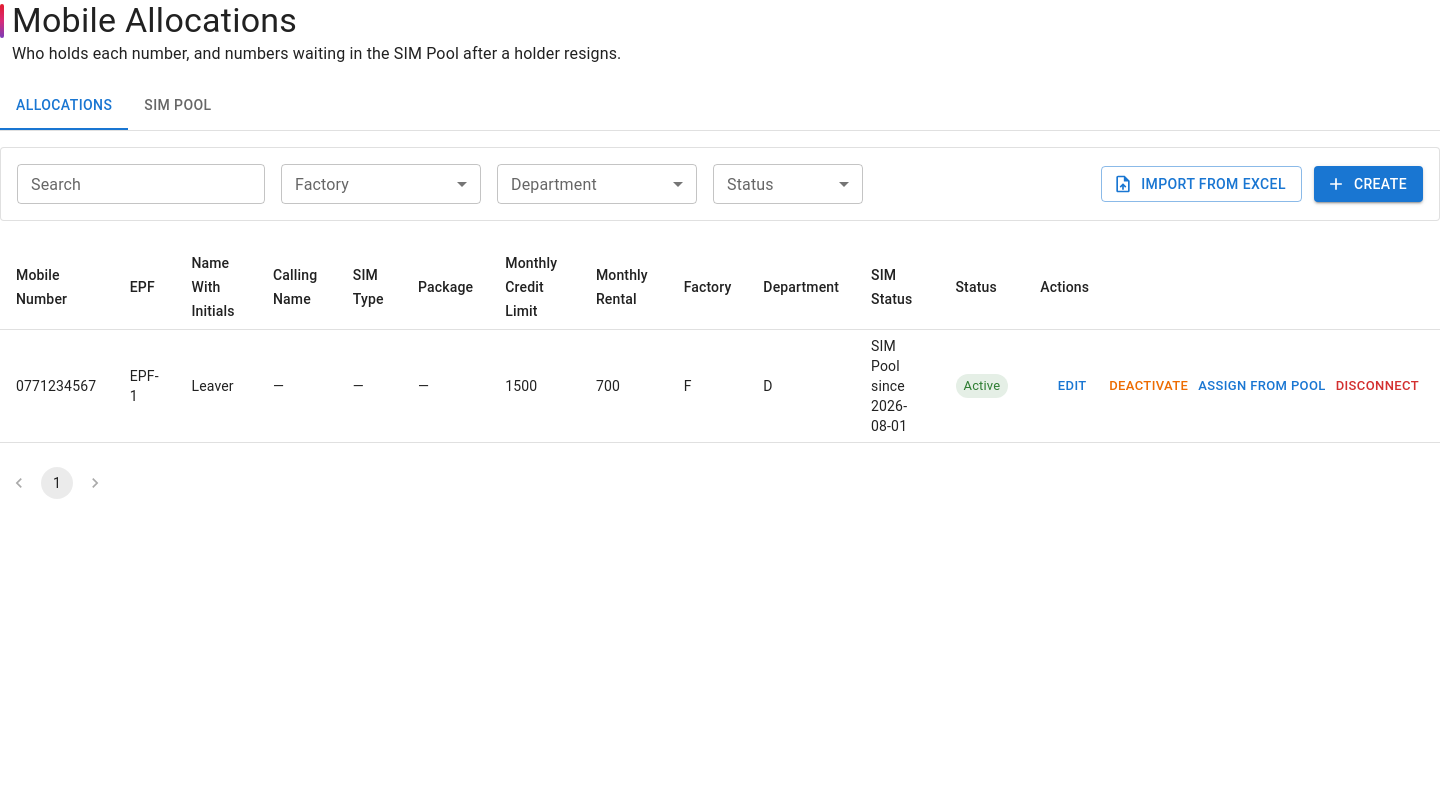
it: SIM Pool › assigns a pooled number starting from its existing amounts, which can be changed
This screenshot has width=1440, height=810.
Expected: the text "SIM Pool since 2026-08-01" is shown, [855,330,940,443]
Click the button "Assign from Pool".
click(1262, 386)  # box [1193,371,1331,401]
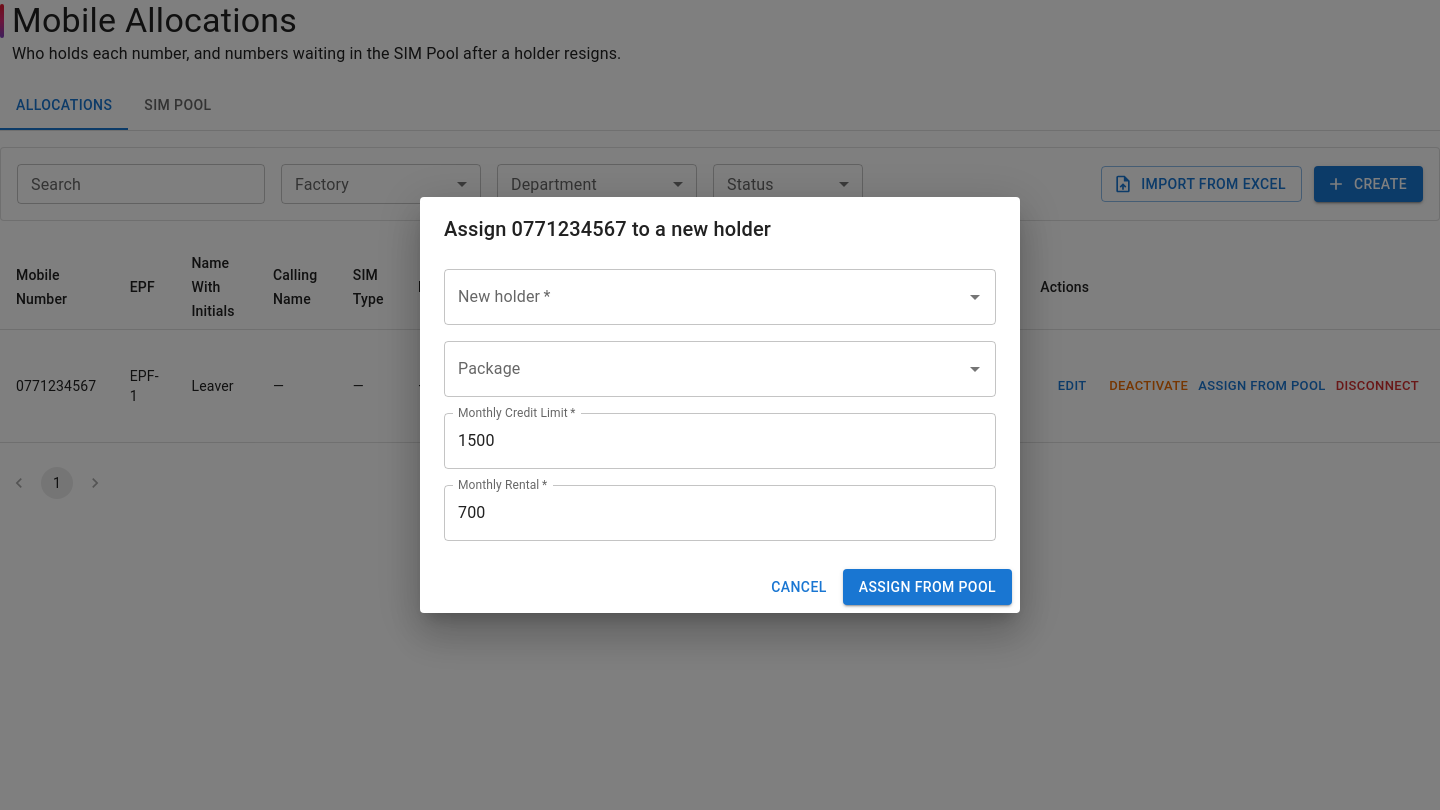
Now the number field labelled "Monthly Credit Limit" is enabled, box [444,413,996,469]
Now the number field labelled "Monthly Credit Limit" holds "1500", box [444,413,996,469]
